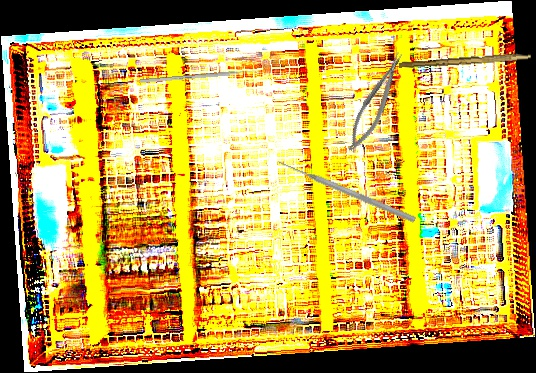Needle Holder: (340, 49, 413, 156)
Pusher: (275, 157, 417, 224), (140, 68, 261, 84)
Scalpel Handle: (398, 50, 532, 71)
